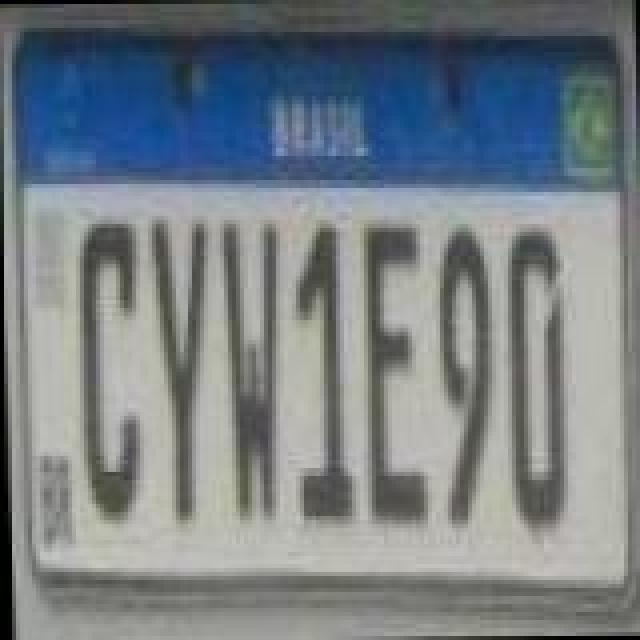1: (288, 228, 352, 524)
9: (434, 230, 498, 534)
C: (74, 220, 142, 524)
D: (506, 228, 570, 532)
E: (358, 222, 426, 526)
W: (220, 218, 284, 522)
Y: (148, 218, 212, 522)
